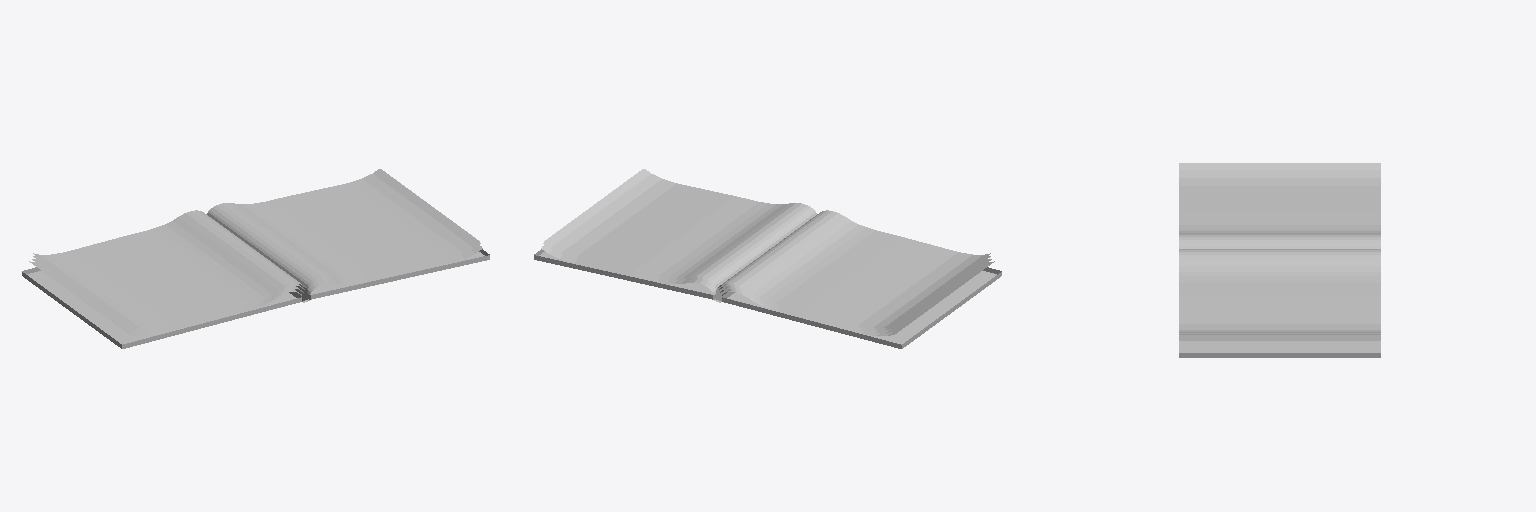
The model's file is Livre.obj.
3 views of the same model, side by side, from view 1: azimuth 30°, elevation 25°; view 2: azimuth 150°, elevation 25°; view 3: azimuth 270°, elevation 25° (orthographic).
Bounding box in the file's own units: 4.1 × 0.2499 × 1.94.